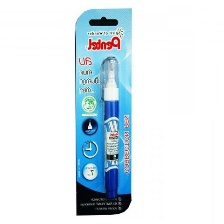book: (74, 5, 134, 217)
correction_fluid: (98, 53, 121, 201)
